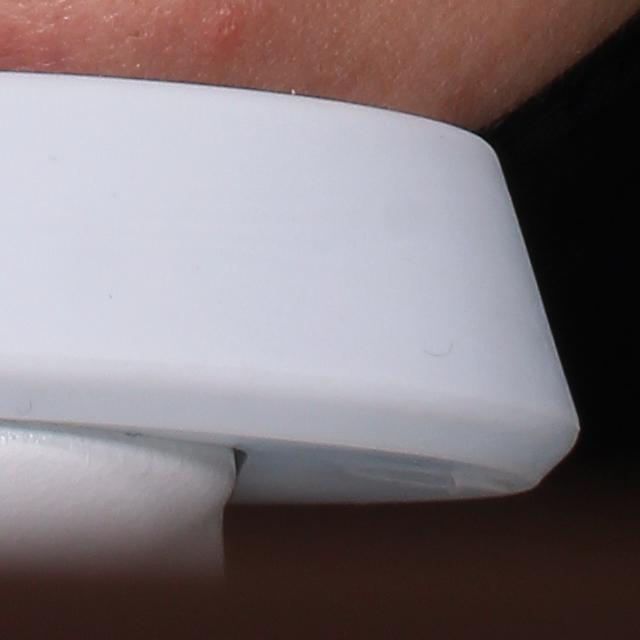papule: (205, 12, 243, 52)
